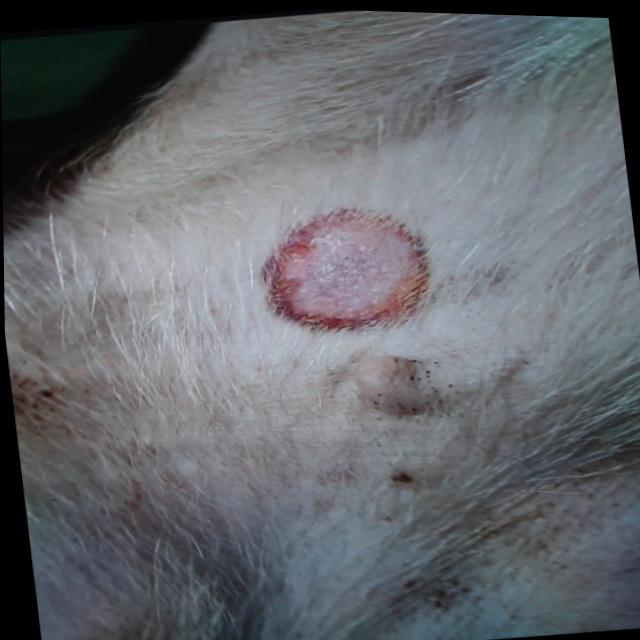ringworm: (205, 187, 454, 358)
